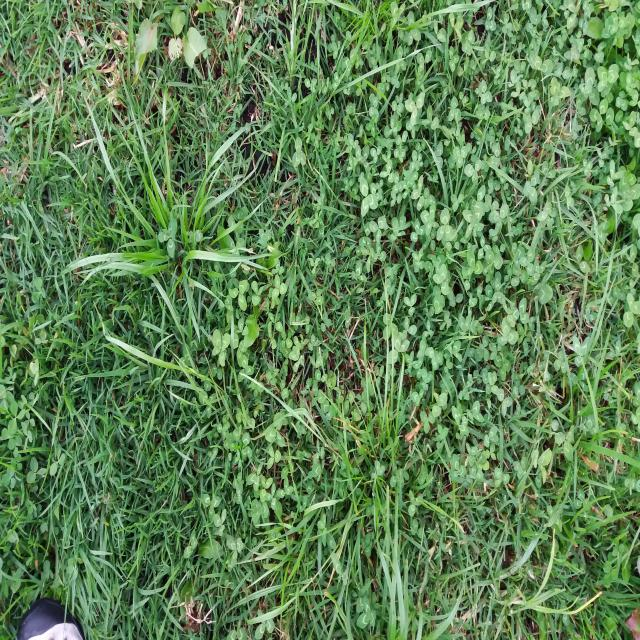Four Leaf Clover: (212, 329, 230, 366), (289, 341, 304, 373)
